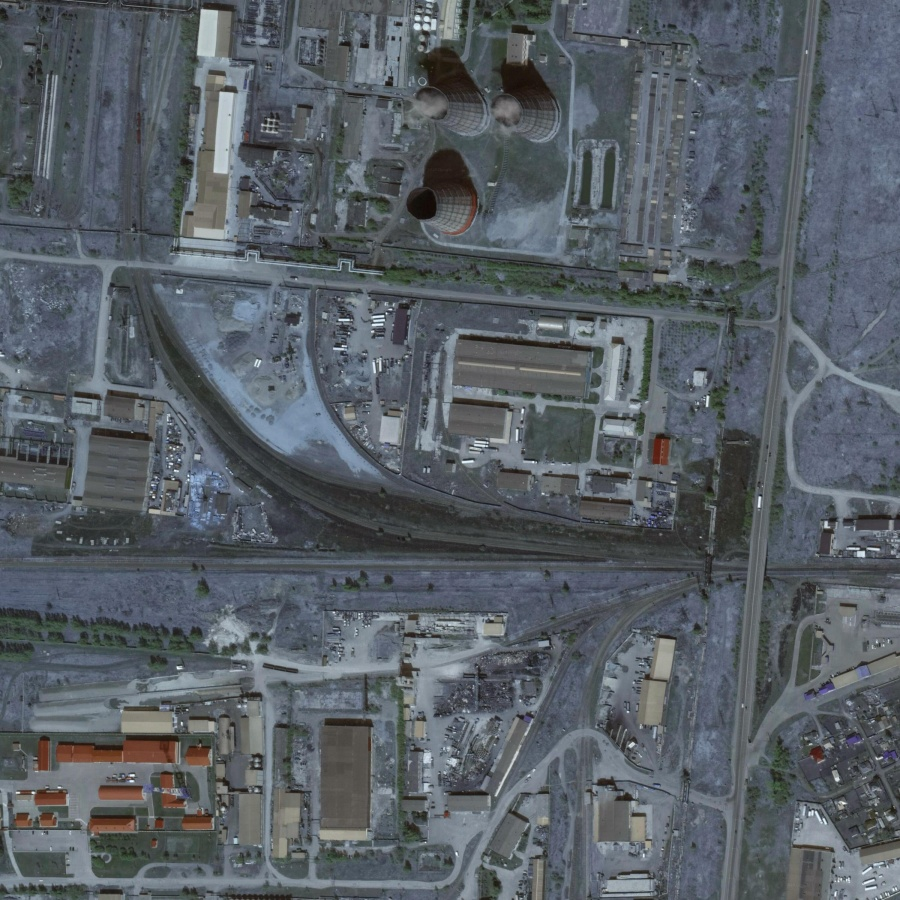PowerPlant: (398, 18, 587, 273)
